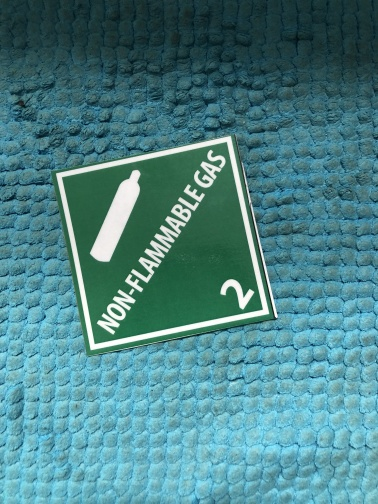NonFlammableGas: (51, 135, 278, 356)
